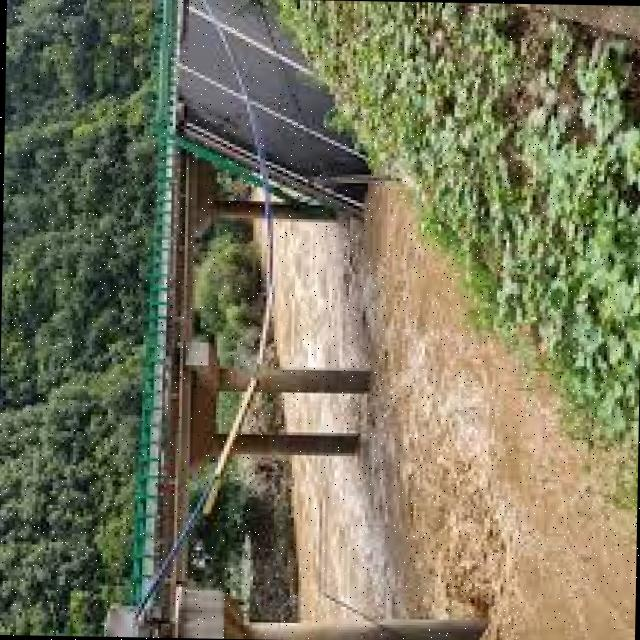bridge collapse: (47, 0, 540, 635)
